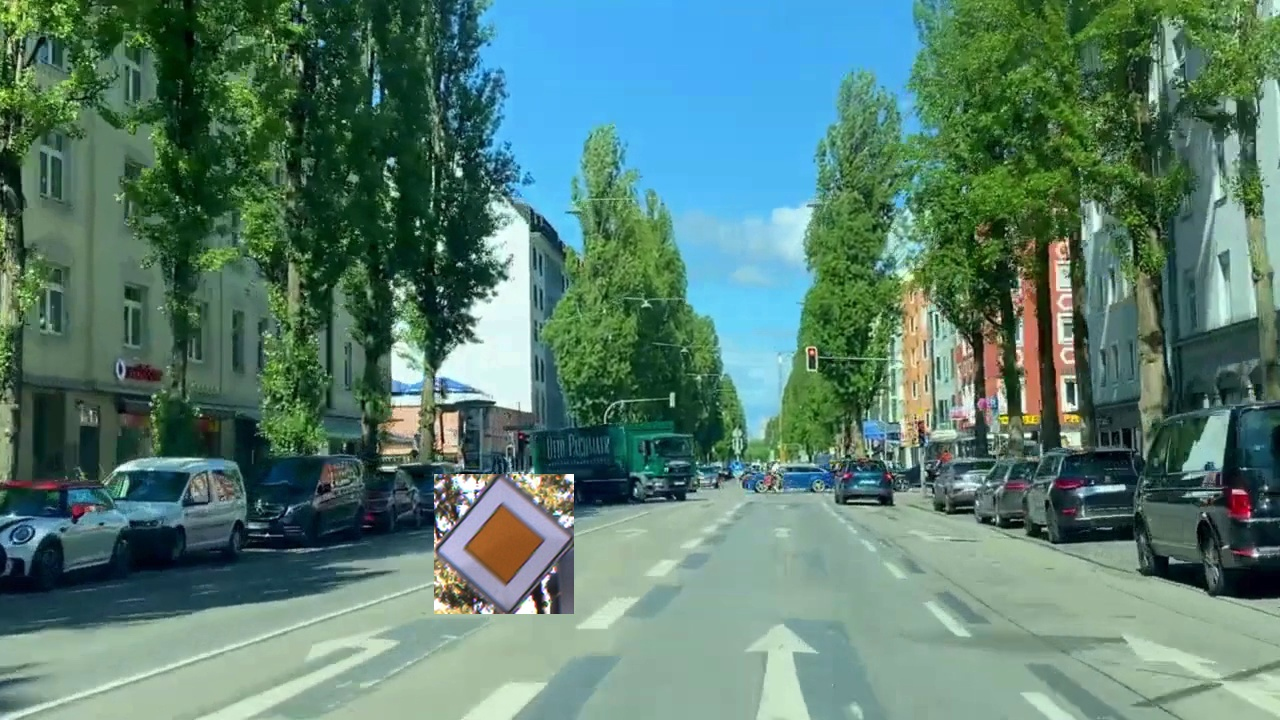Priority road: (434, 474, 574, 614)
